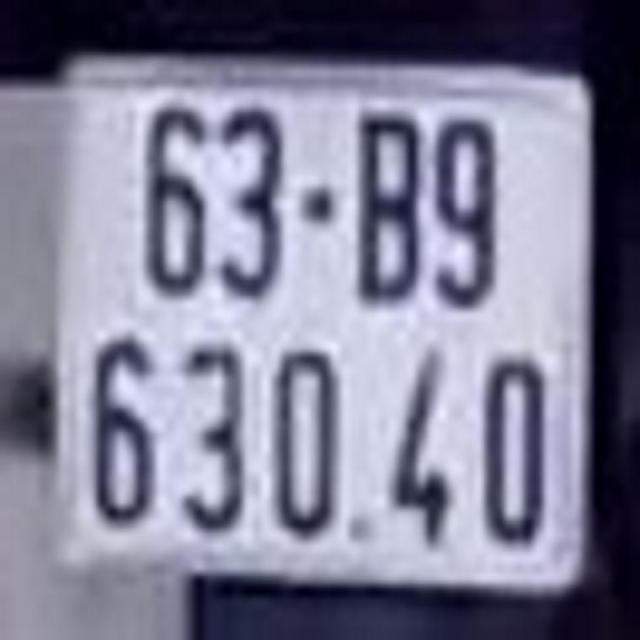0: (478, 327, 552, 548), (270, 323, 344, 536)
3: (177, 324, 249, 532), (219, 90, 286, 304)
4: (385, 328, 466, 547)
6: (85, 328, 159, 522), (139, 98, 209, 303)
9: (430, 98, 501, 311)
B: (351, 100, 426, 306)
